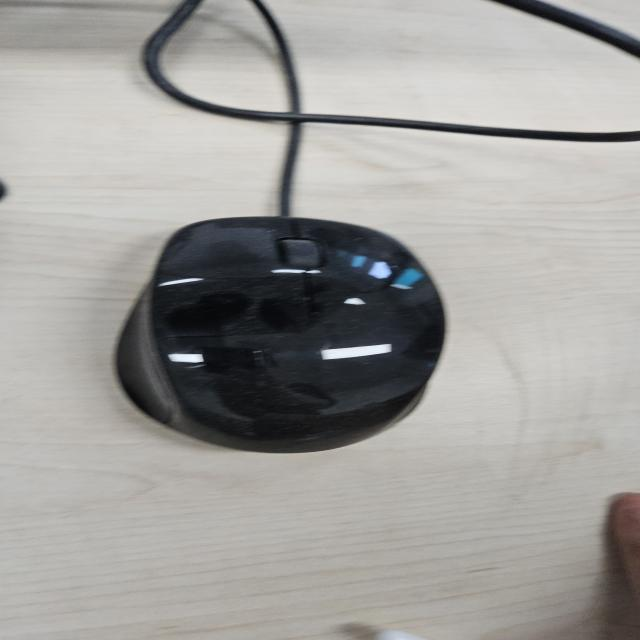Mouse: (111, 214, 450, 454)
